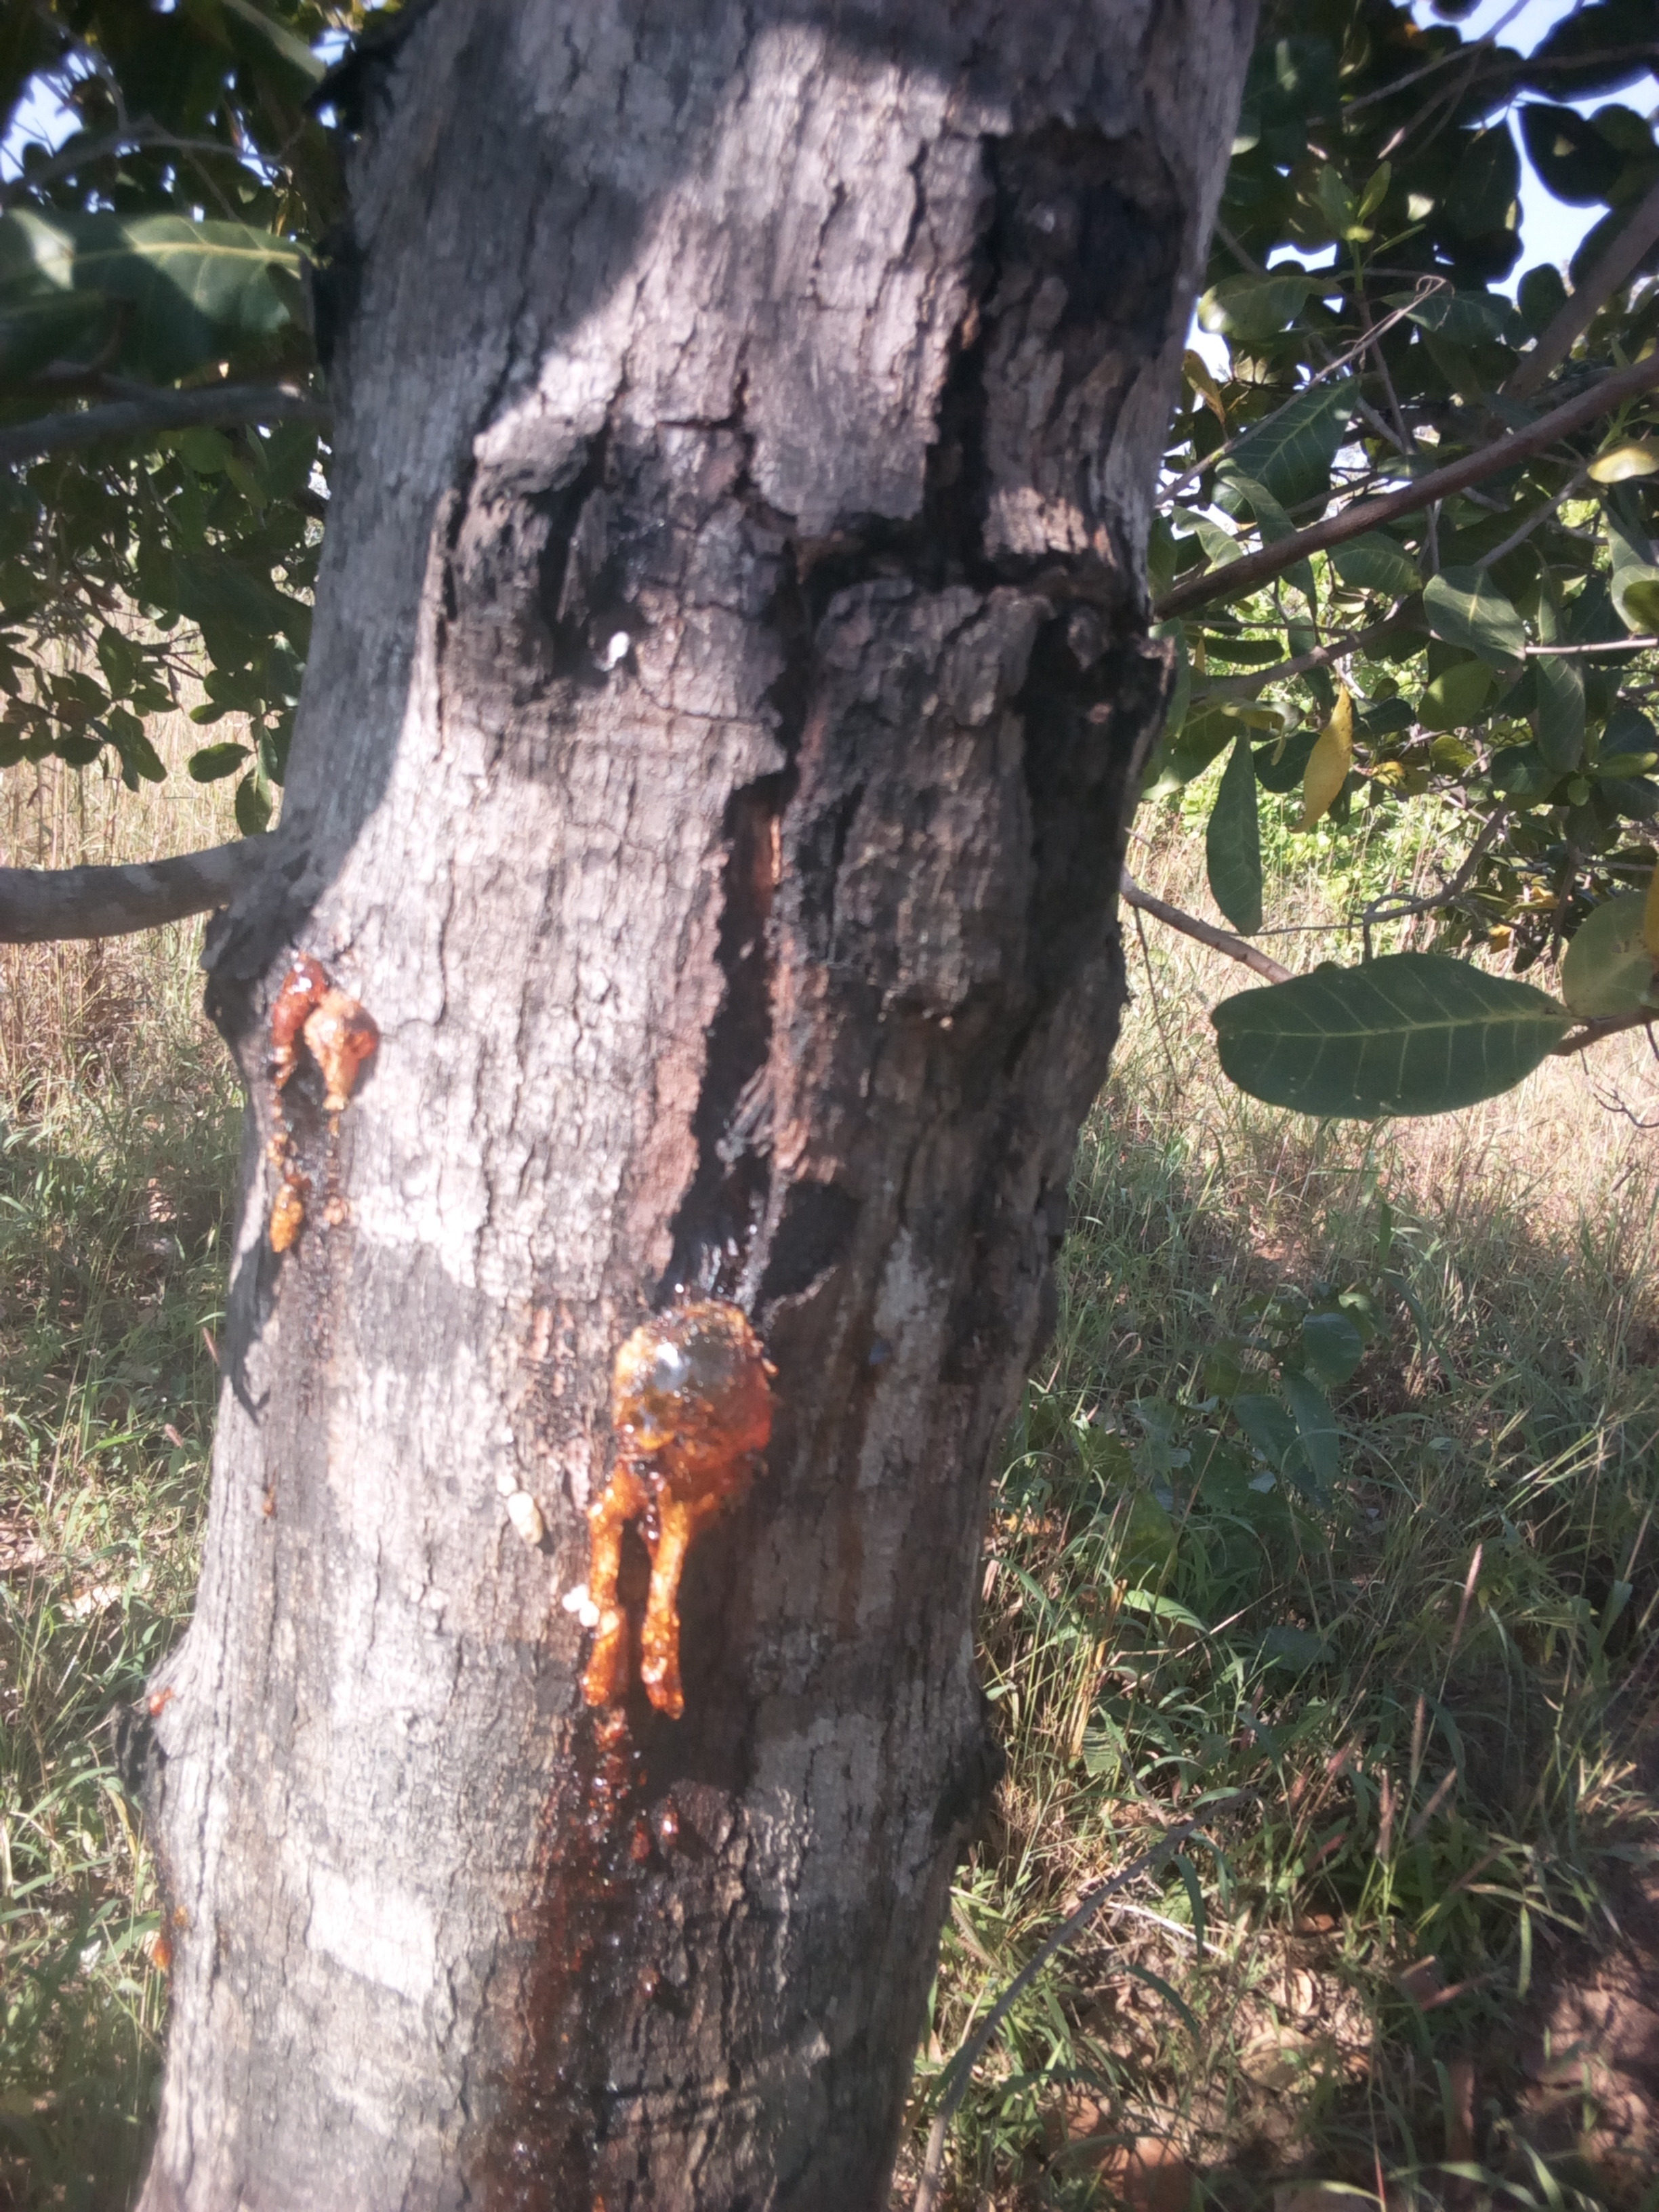Mecocorynus longiceps: (532, 1235, 843, 1841), (199, 895, 416, 1329)
